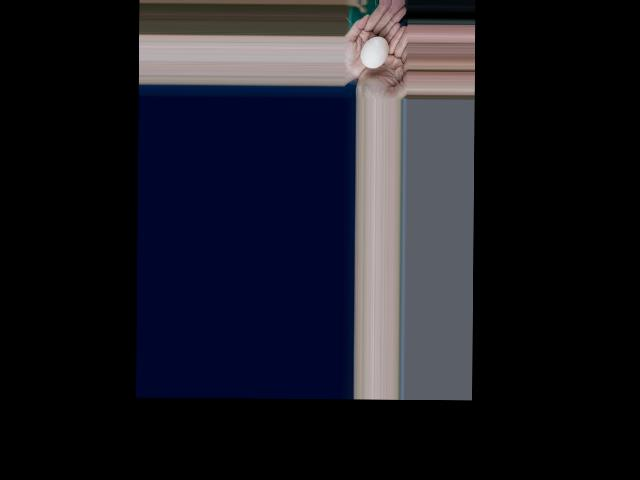egg: (361, 36, 388, 68)
